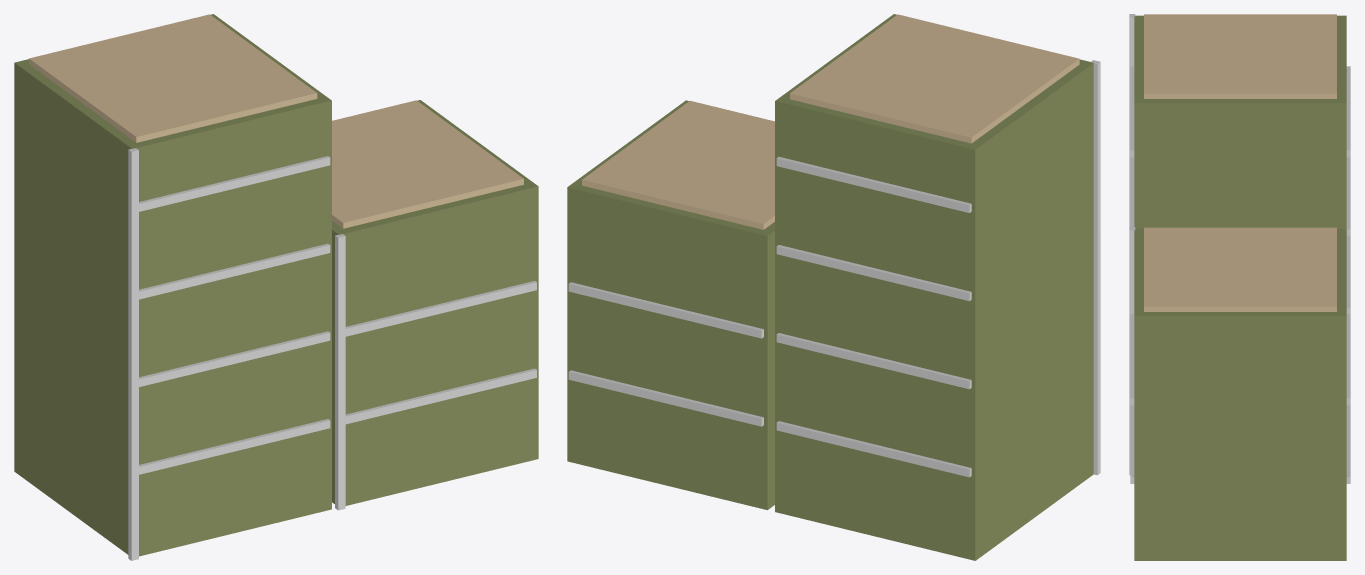
File: SM_HescoCorto2_v2_Escalonado_e0_Sano_LOD0.fbx
3 views of the same model, side by side, from view 1: azimuth 30°, elevation 25°; view 2: azimuth 150°, elevation 25°; view 3: azimuth 270°, elevation 25° (orthographic). The views are drawn at different scales.
Parts seen in each view (by area): view 1: SM_hesco_piezas_v68_LOD0; view 2: SM_hesco_piezas_v68_LOD0; view 3: SM_hesco_piezas_v68_LOD0.
Boxes of the visible parts, left/top/right/bottom form: SM_hesco_piezas_v68_LOD0: left=14, top=14, right=538, bottom=560; SM_hesco_piezas_v68_LOD0: left=567, top=14, right=1100, bottom=560; SM_hesco_piezas_v68_LOD0: left=1129, top=14, right=1350, bottom=560.
Bounding box in the file's own units: 2.2 × 2.13 × 1.14.
